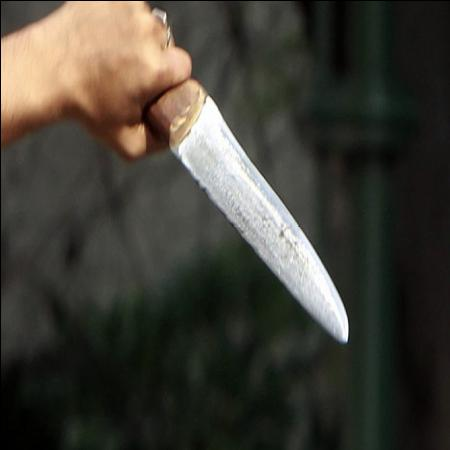long weapon: (126, 38, 370, 360)
